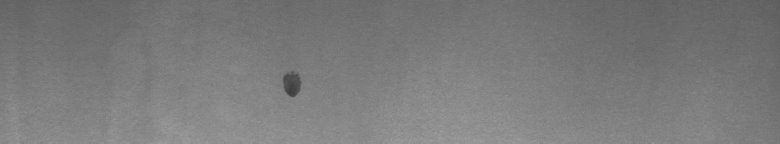fi: (277, 64, 307, 104)
